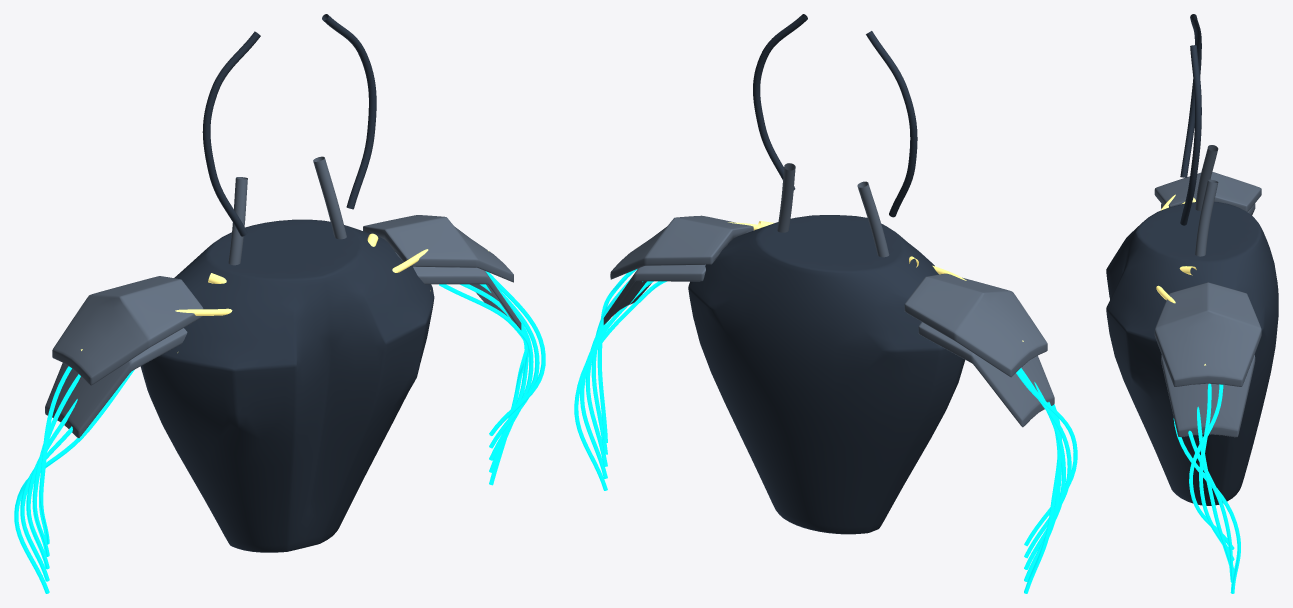
The model's file is cyber_operator_sotd.glb.
3 views of the same model, side by side, from view 1: azimuth 30°, elevation 25°; view 2: azimuth 150°, elevation 25°; view 3: azimuth 270°, elevation 25° (orthographic). The views are drawn at different scales.
Parts seen in each view (by area): view 1: Chassis_Thorax_Primary, Chassis_Pauldron_L, DataStream_Tendrils, Chassis_Pauldron_R, Cranium_Bionic_Helmet, Cervical_Spine_Column; view 2: Chassis_Thorax_Primary, Chassis_Pauldron_L, DataStream_Tendrils, Chassis_Pauldron_R, Cranium_Bionic_Helmet, Cervical_Spine_Column; view 3: Chassis_Thorax_Primary, Chassis_Pauldron_R, DataStream_Tendrils, Cranium_Bionic_Helmet, Chassis_Pauldron_L, Cervical_Spine_Column.
Boxes of the visible parts, left/top/right/bottom form: Chassis_Thorax_Primary: left=140, top=219, right=434, bottom=552; Chassis_Pauldron_L: left=45, top=276, right=203, bottom=437; DataStream_Tendrils: left=14, top=271, right=545, bottom=593; Chassis_Pauldron_R: left=363, top=215, right=521, bottom=329; Cranium_Bionic_Helmet: left=202, top=14, right=376, bottom=236; Cervical_Spine_Column: left=228, top=156, right=346, bottom=265; Chassis_Thorax_Primary: left=688, top=215, right=965, bottom=534; Chassis_Pauldron_L: left=904, top=273, right=1054, bottom=427; DataStream_Tendrils: left=574, top=269, right=1077, bottom=593; Chassis_Pauldron_R: left=603, top=215, right=753, bottom=324; Cranium_Bionic_Helmet: left=753, top=14, right=917, bottom=217; Cervical_Spine_Column: left=777, top=163, right=889, bottom=257; Chassis_Thorax_Primary: left=1106, top=202, right=1278, bottom=505; Chassis_Pauldron_R: left=1154, top=282, right=1261, bottom=437; DataStream_Tendrils: left=1173, top=383, right=1240, bottom=593; Cranium_Bionic_Helmet: left=1180, top=14, right=1201, bottom=225; Chassis_Pauldron_L: left=1154, top=172, right=1261, bottom=215; Cervical_Spine_Column: left=1195, top=145, right=1218, bottom=256.
Bounding box in the file's own units: 2.1 × 2.11 × 0.705.
